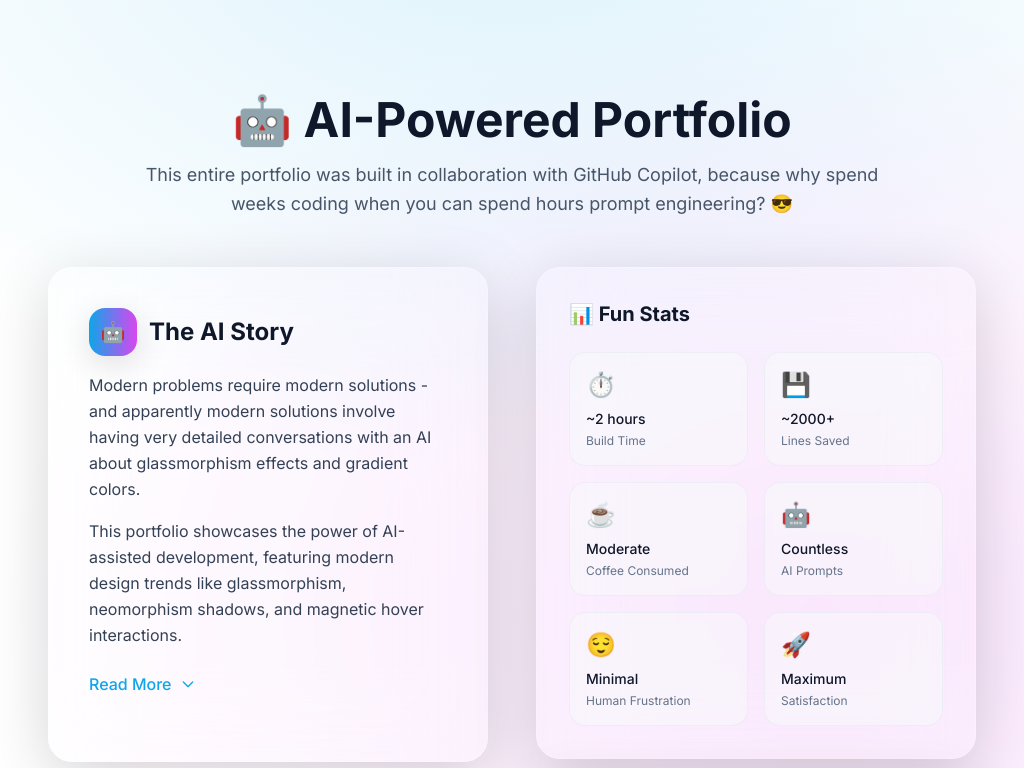
AIPortfolioInfo Component › demonstrates transparency about AI usage
The width and height of the screenshot is (1024, 768).
// Expandir contenido primero
Click the button "Read More": (142, 684) x1=89 y1=672 x2=196 y2=697
(page scrolled)
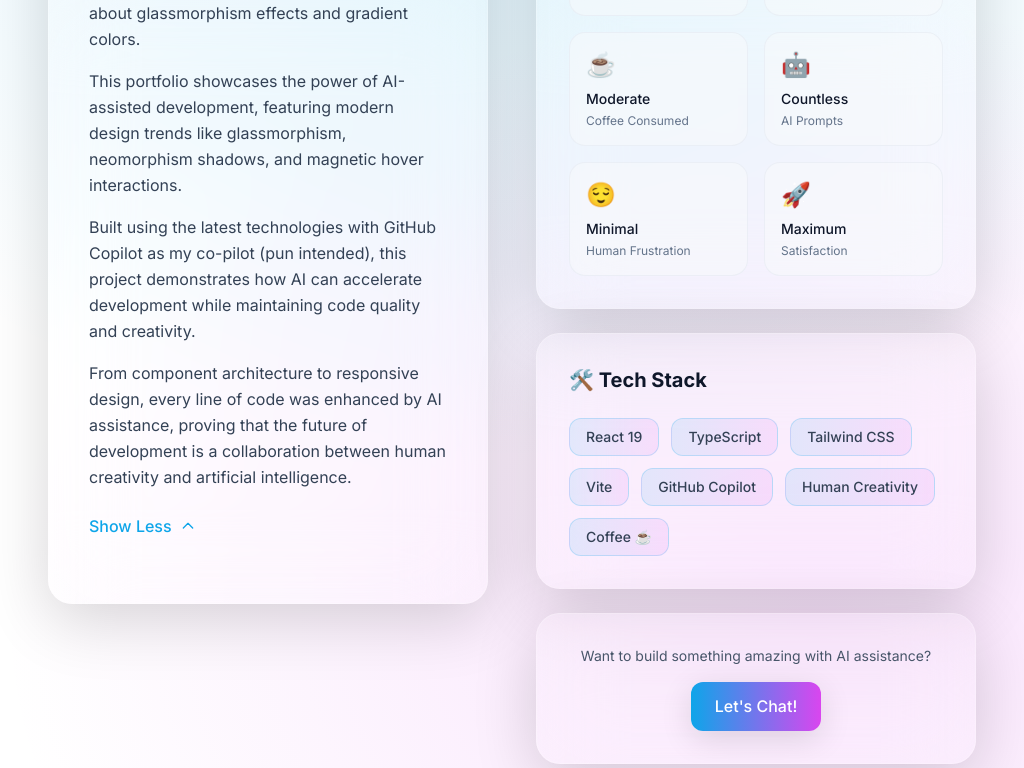
Check: the text "collaboration between human creativity and artificial intelligence" is shown, box x1=89 y1=362 x2=446 y2=486
